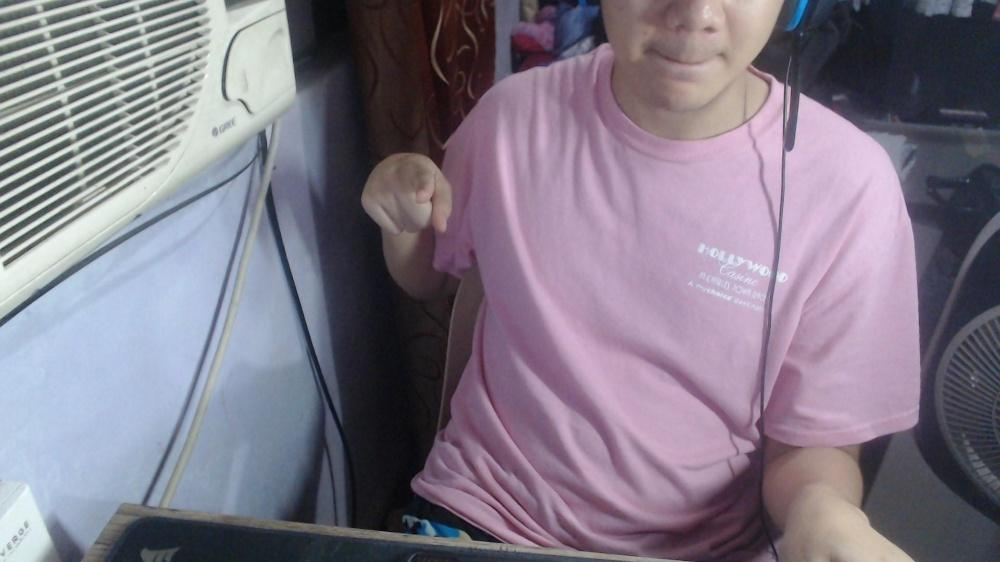z: (355, 149, 455, 238)
